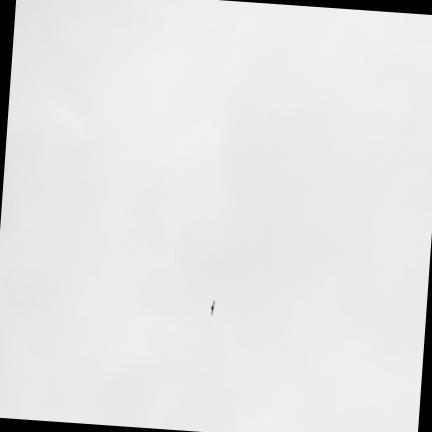Shahed: (210, 300, 213, 314)
